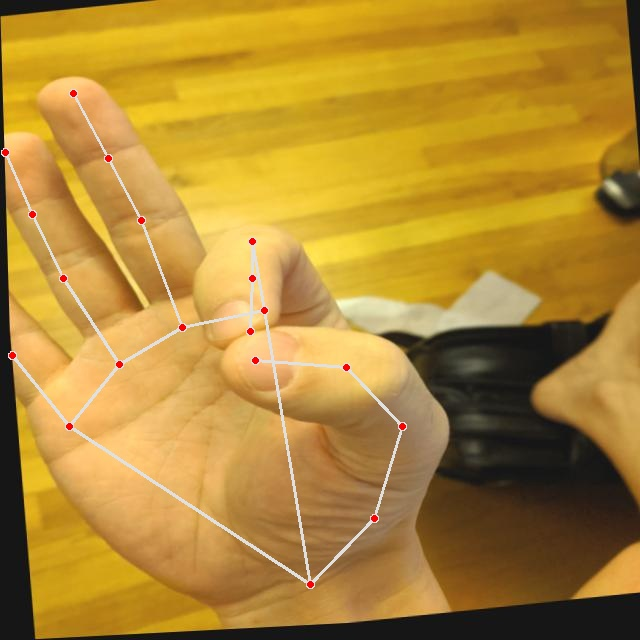F: (1, 39, 467, 636)
